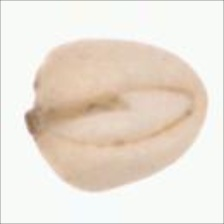L5: (47, 85, 196, 149), (23, 73, 47, 149), (191, 65, 212, 149)
L6: (23, 36, 211, 193)
